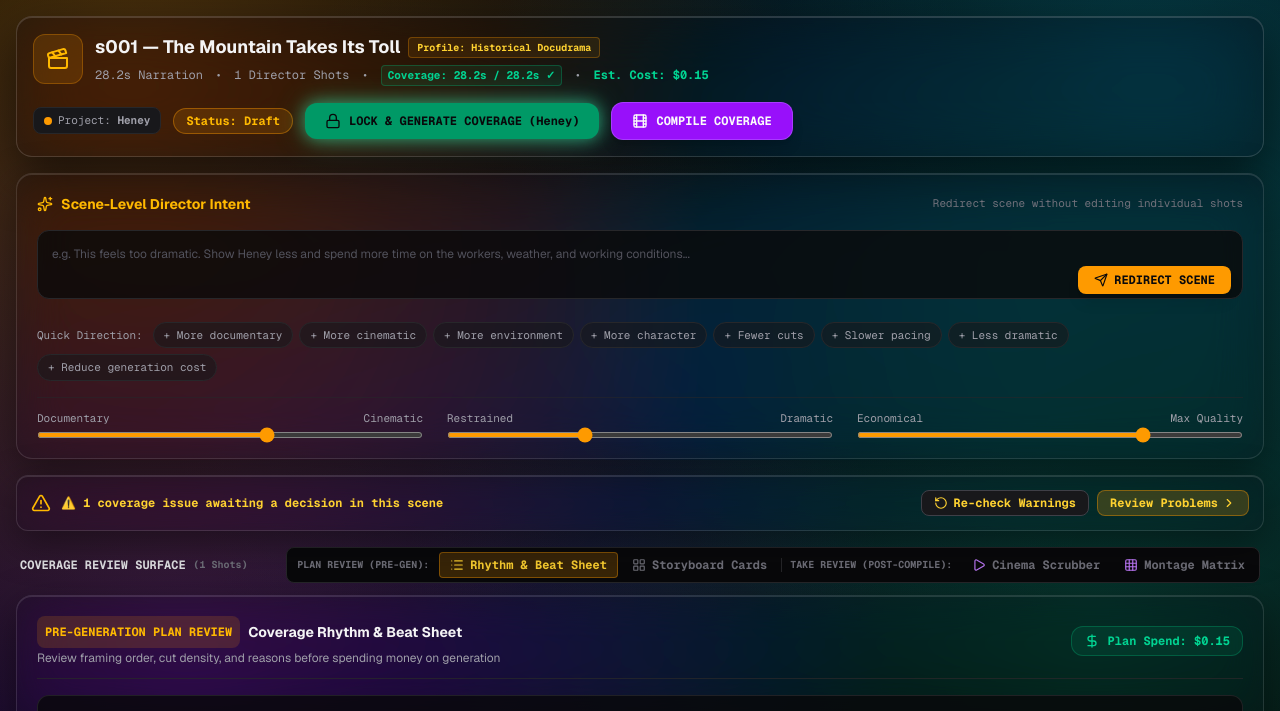
Scenario: the re-check failed › the failure is on screen, in the server's words
The width and height of the screenshot is (1280, 711).
What coordinates should you click on to do the following:
click the button with test id "recheck-warnings"
I would click on:
 (1005, 503)
Its box is [921,490,1089,516].
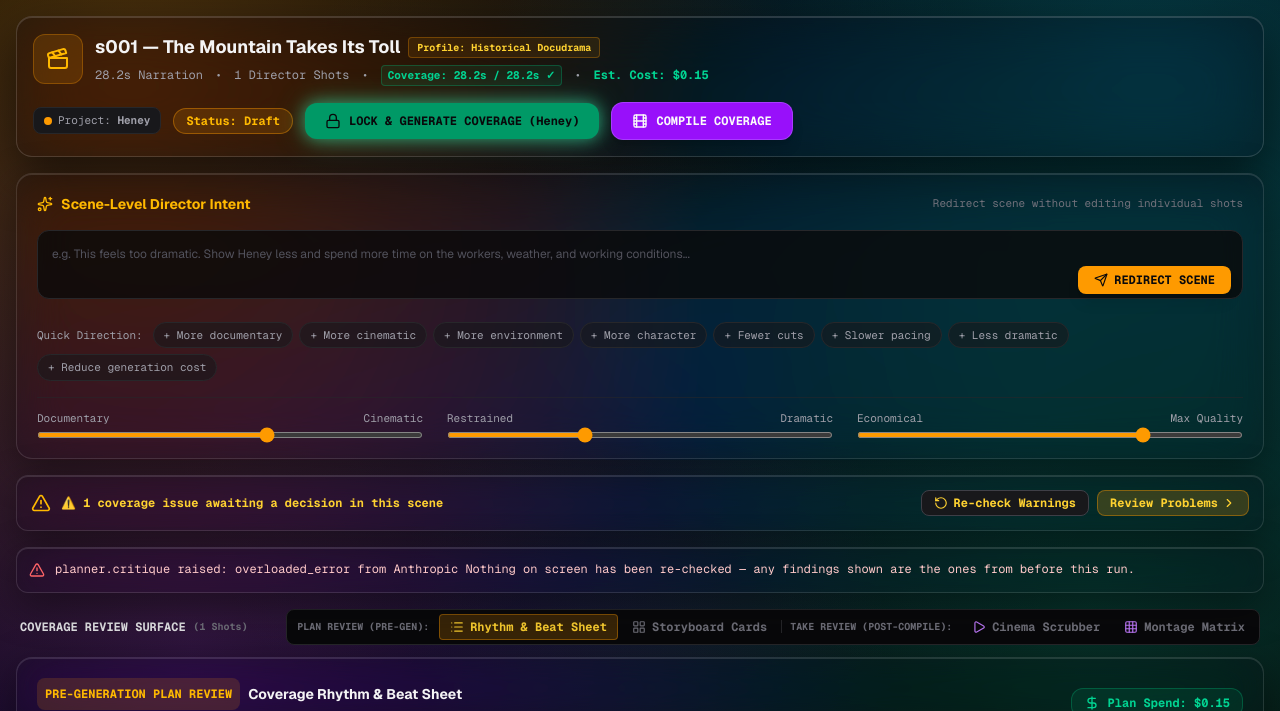
Now the element with test id "critique-outcome" shows "planner.critique raised: overloaded_error from Anthropic", box [55,561,1135,577]
Now the element with test id "critique-outcome" shows "Nothing on screen has been re-checked", box [55,561,1135,577]
Now the element with test id "critique-outcome" shows "from before this run", box [55,561,1135,577]
